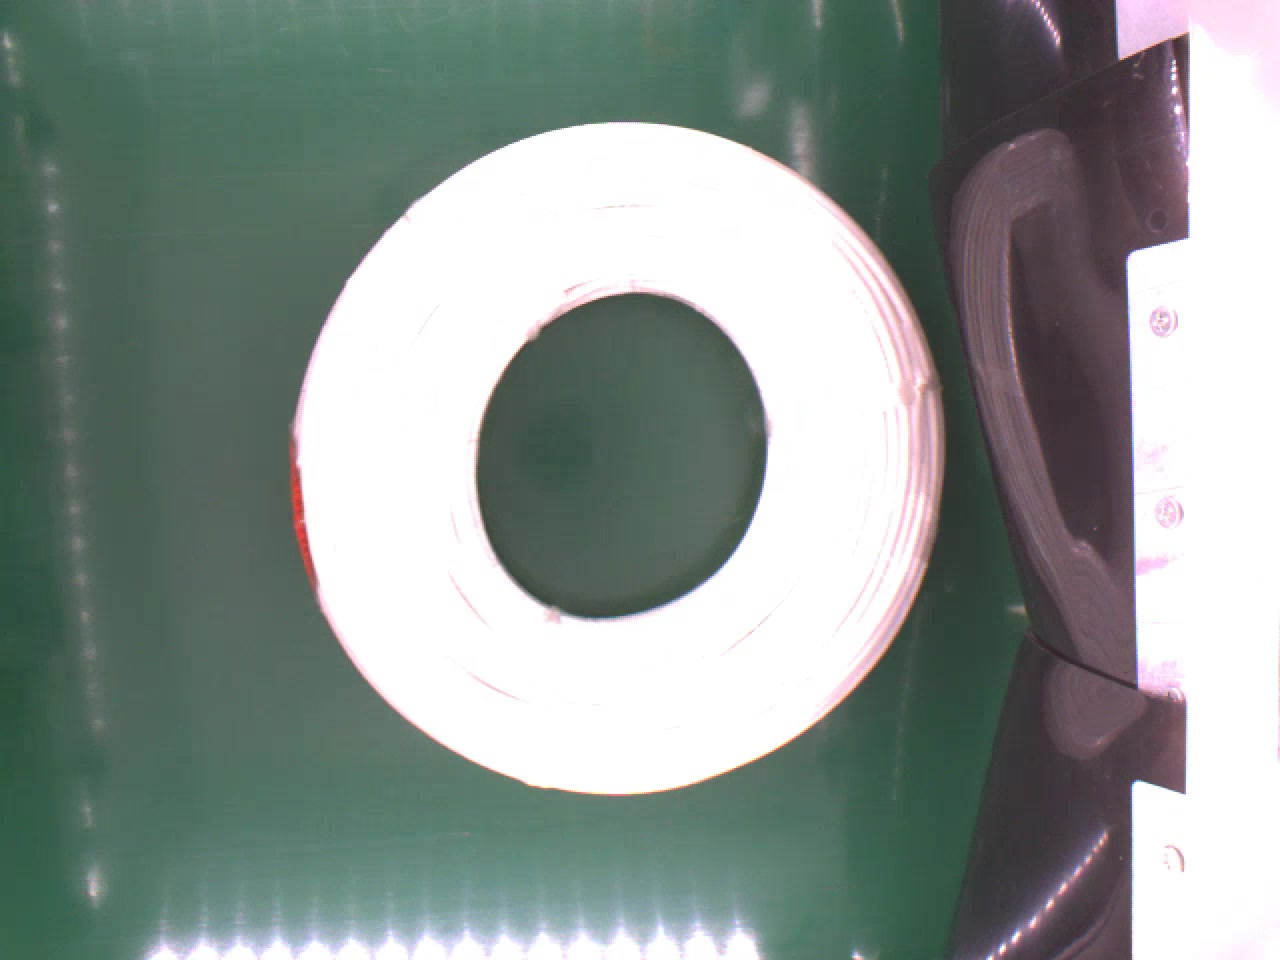white: (286, 116, 951, 801)
